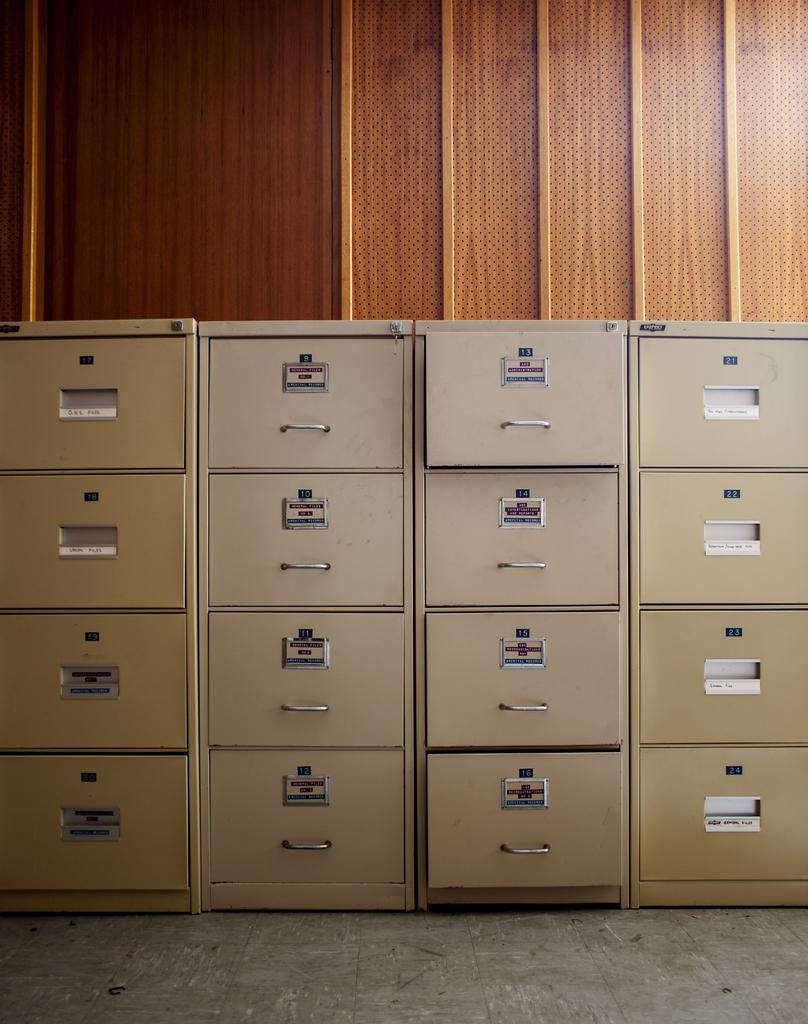Luggage-and-bags: (1, 313, 805, 914)
